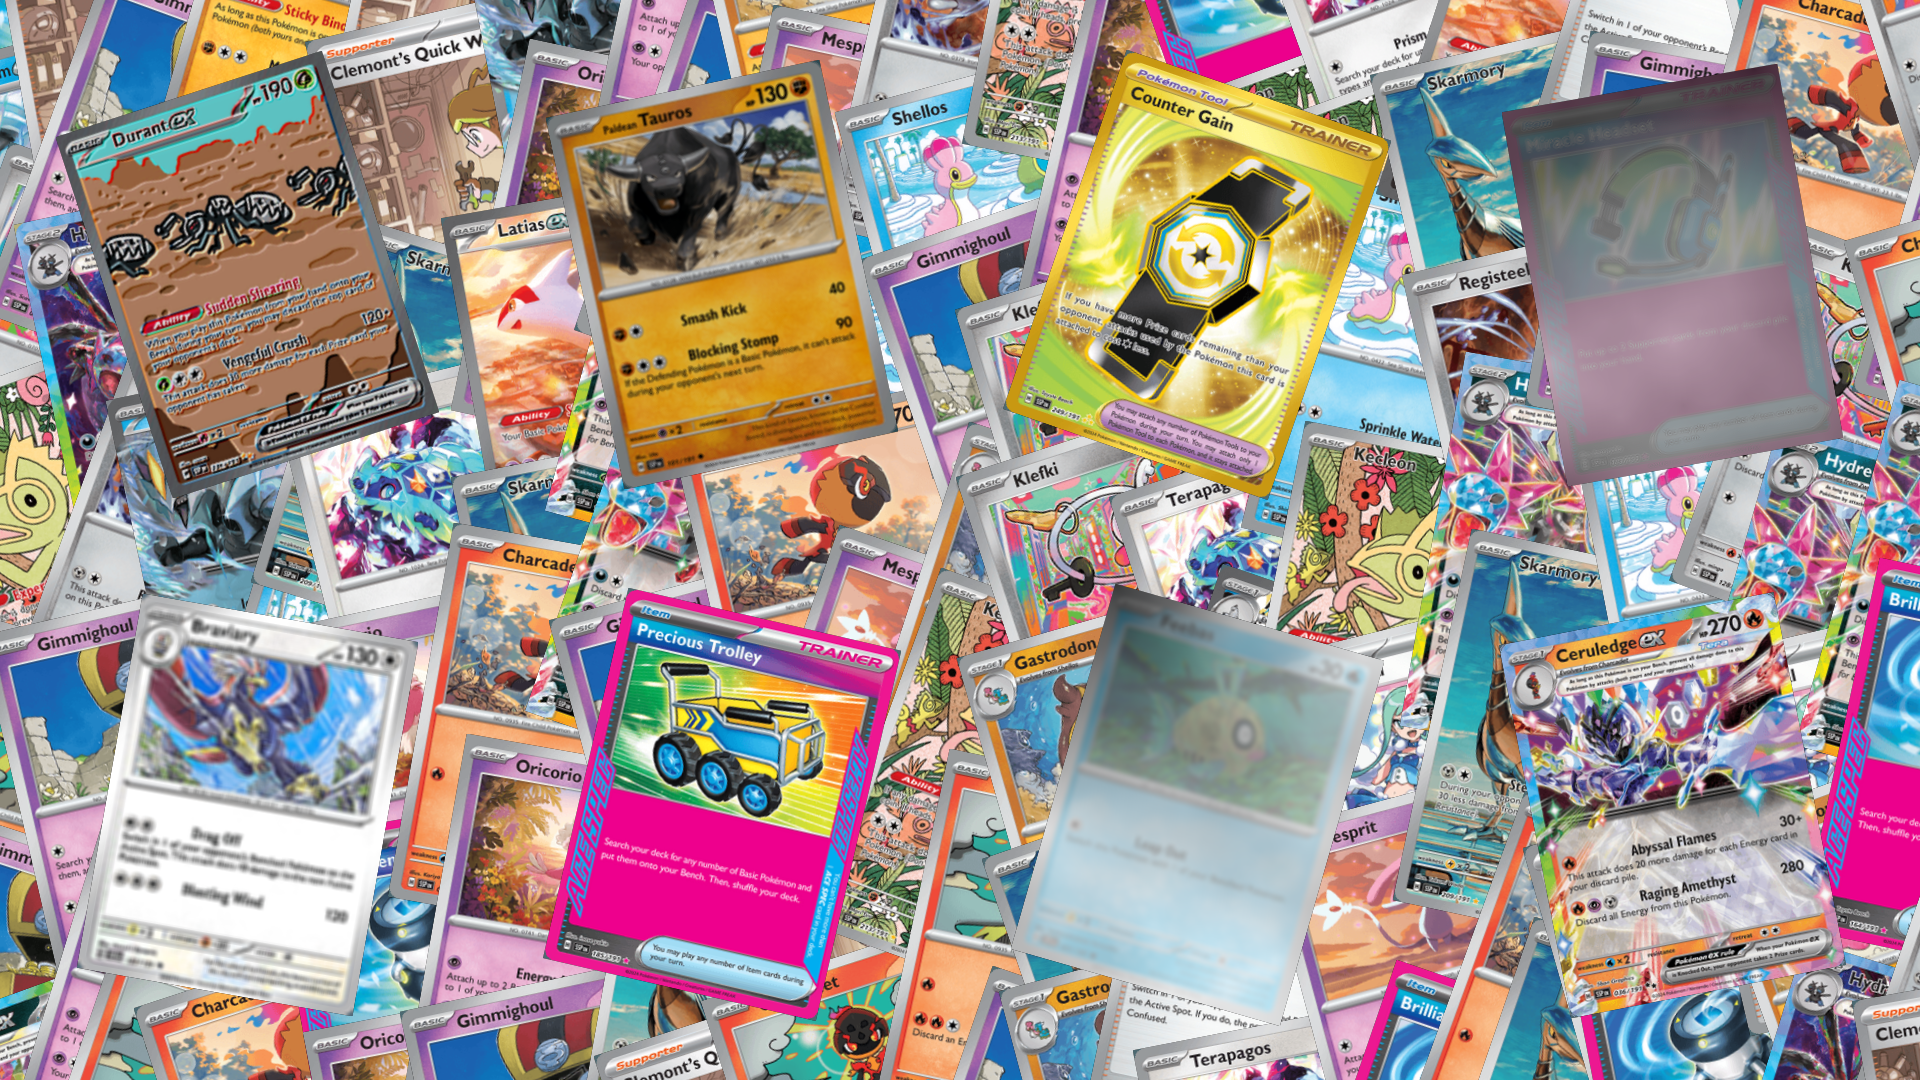Braviary: (76, 593, 418, 1015)
Ceruledge_ex: (1498, 591, 1846, 1018)
Counter_Gain: (1002, 49, 1391, 500)
Durant_ex: (55, 50, 439, 498)
Feebas: (1010, 583, 1385, 1026)
Miracle_Headset: (1501, 63, 1844, 487)
Paldean_Tauros: (545, 59, 898, 489)
Precious_Trolley: (542, 587, 901, 1021)
